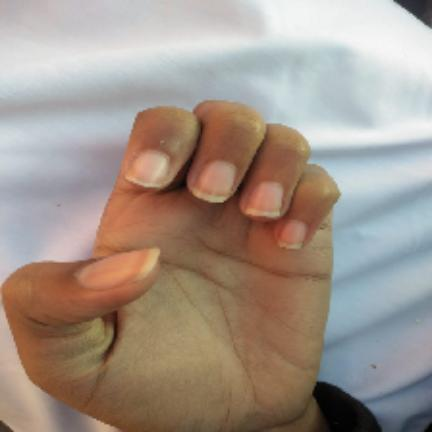Nail: (76, 248, 160, 290), (192, 160, 236, 202), (127, 149, 172, 188), (246, 180, 284, 216), (279, 219, 309, 249)
